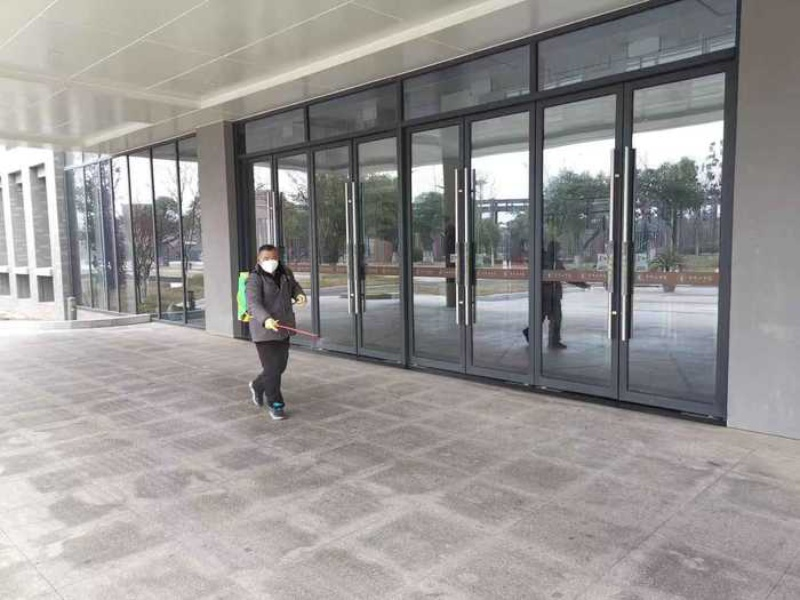ManaoArotava: (250, 244, 286, 275)
